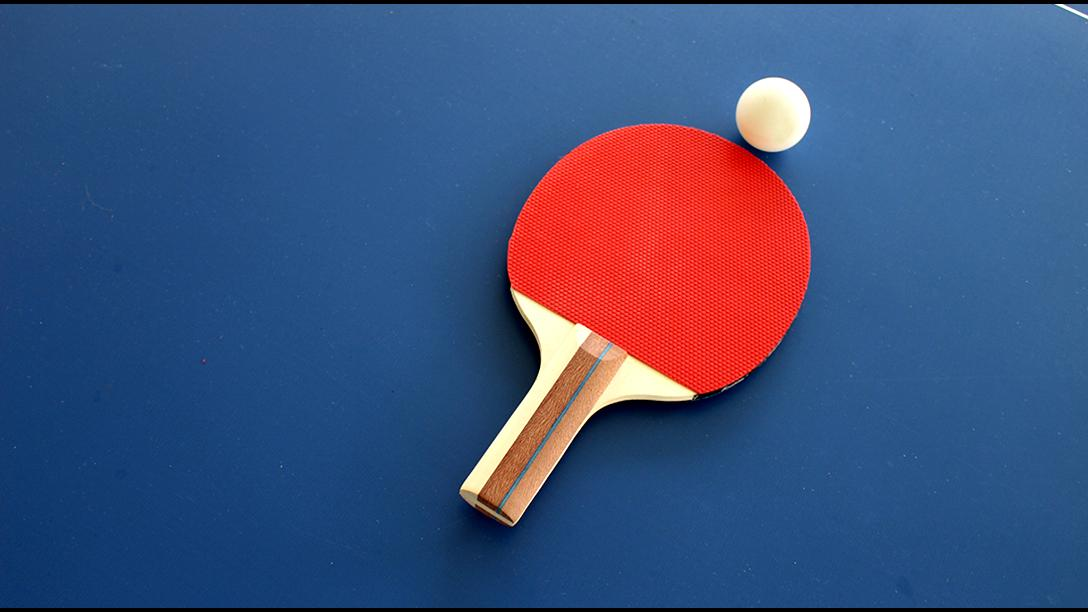Table-Tennis-Ball: (736, 77, 810, 151)
